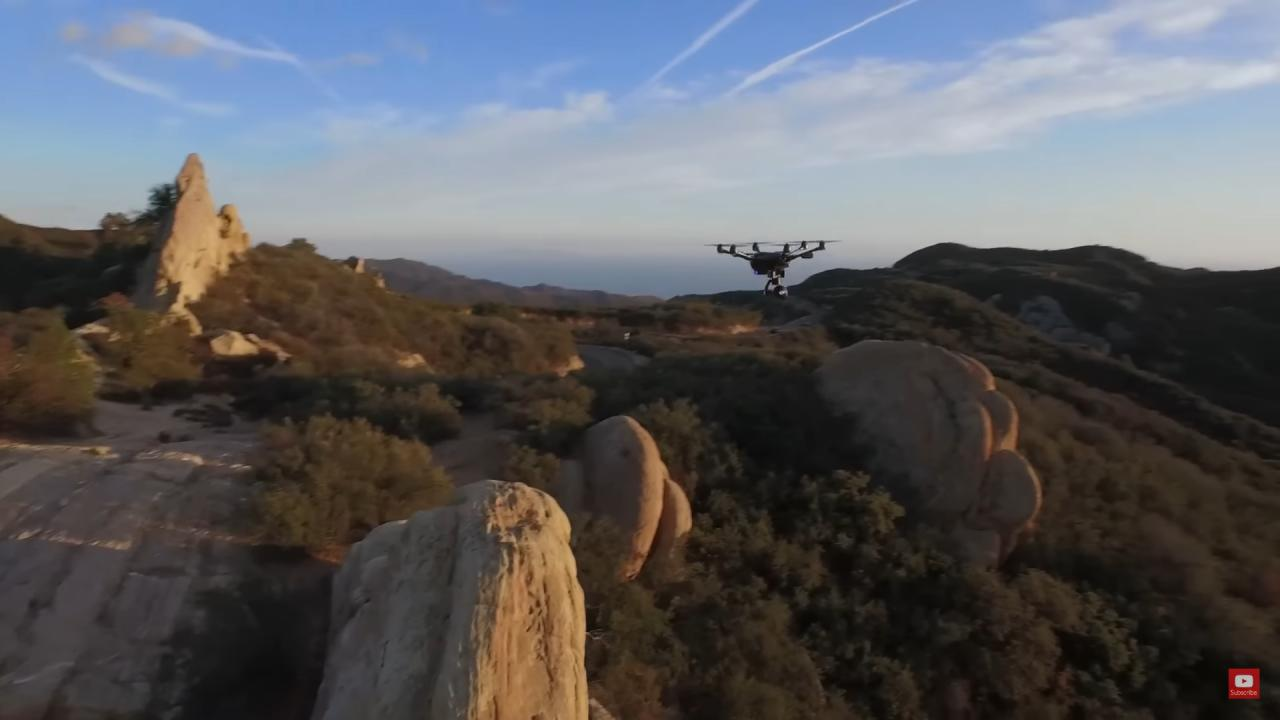Drone: (697, 227, 849, 307)
